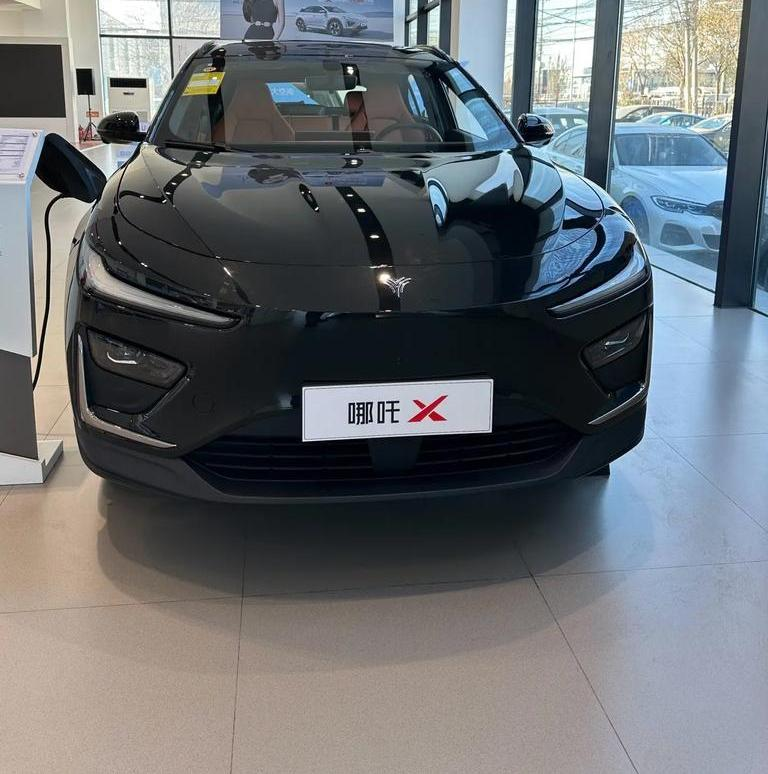NETA: (379, 273, 413, 298)
